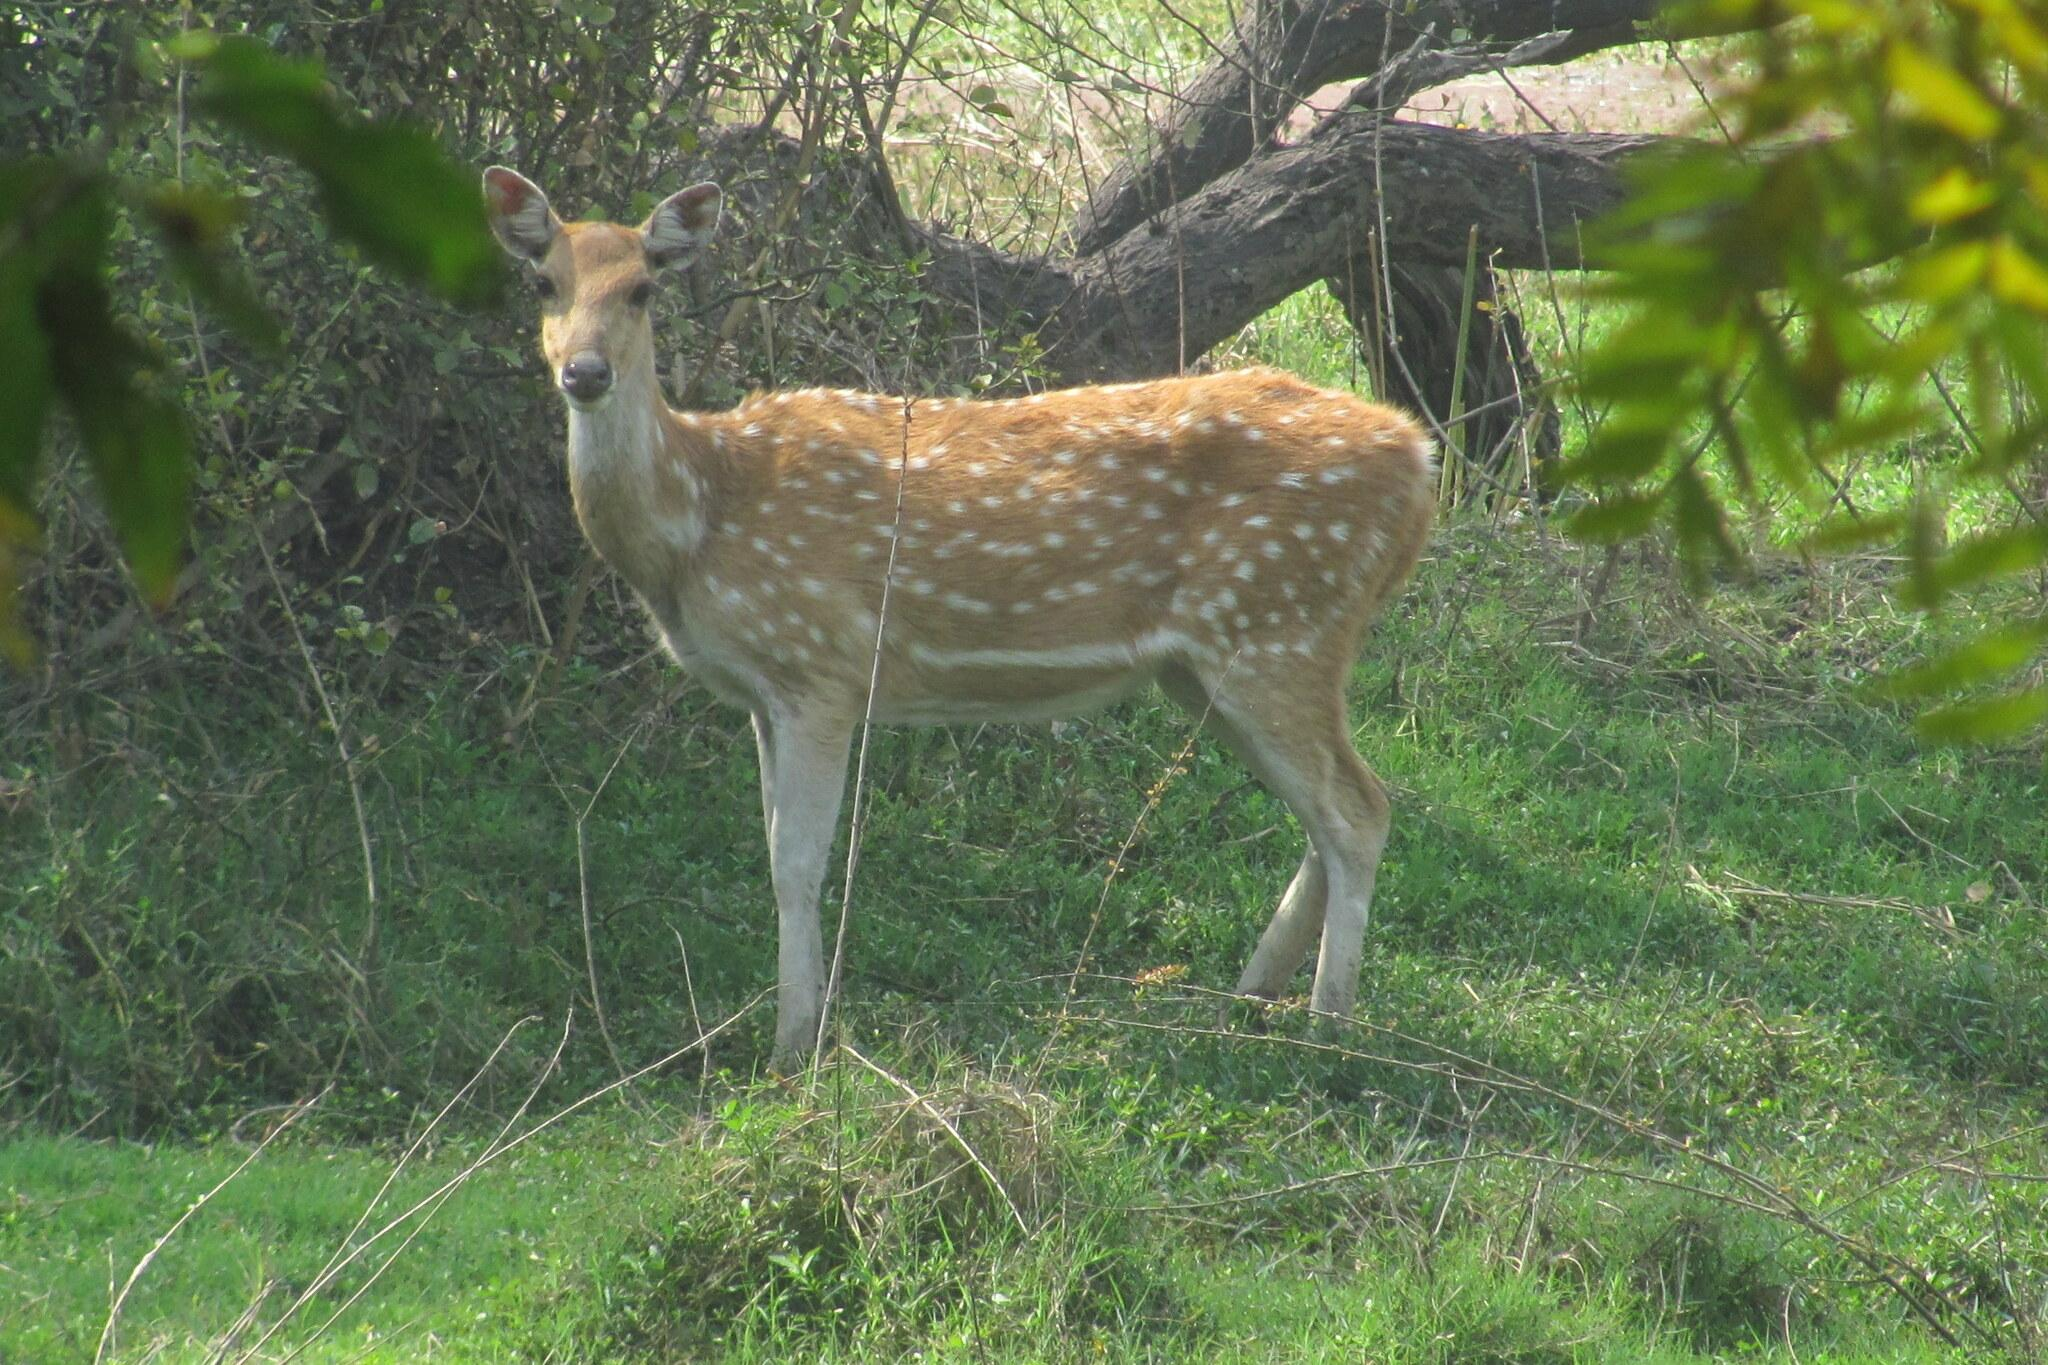Deer: (483, 168, 1437, 1057)
